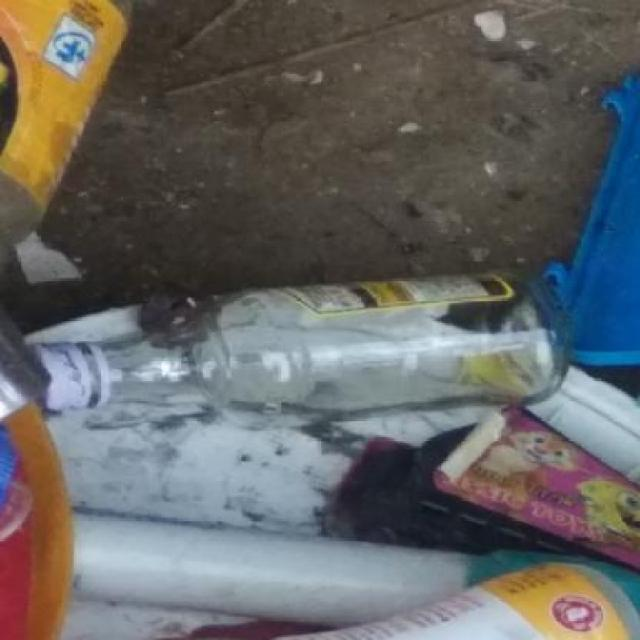garbage: (17, 269, 640, 640), (2, 0, 82, 228), (603, 83, 640, 388)
